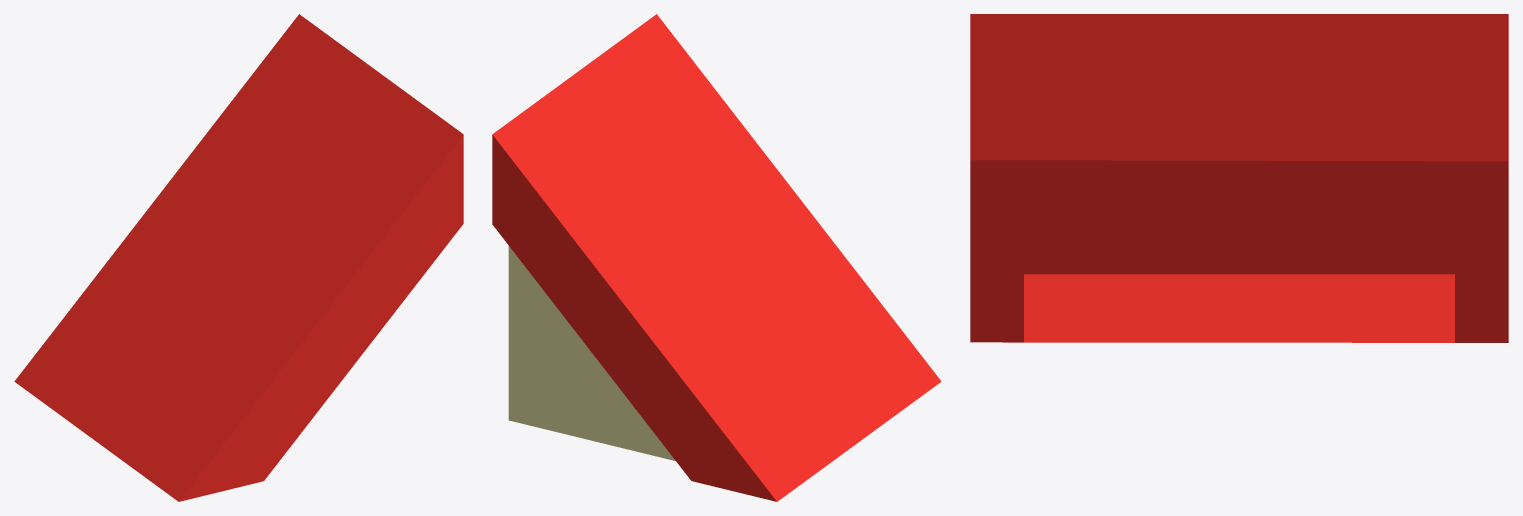
File: RoofSide_OuterCorner_F.fbx
3 renders of one model, left to right at view 1: azimuth 30°, elevation 25°; view 2: azimuth 150°, elevation 25°; view 3: azimuth 270°, elevation 25°, orthographic. The views are drawn at different scales.
Parts seen in each view (by area): view 1: RoofSide.012; view 2: RoofSide.012; view 3: RoofSide.012.
Part boxes in pixels (<box>): RoofSide.012: <box>14,14,463,501</box>; RoofSide.012: <box>492,14,941,501</box>; RoofSide.012: <box>970,14,1508,342</box>.
Size of the model in its own units: 200 by 200 by 200.
